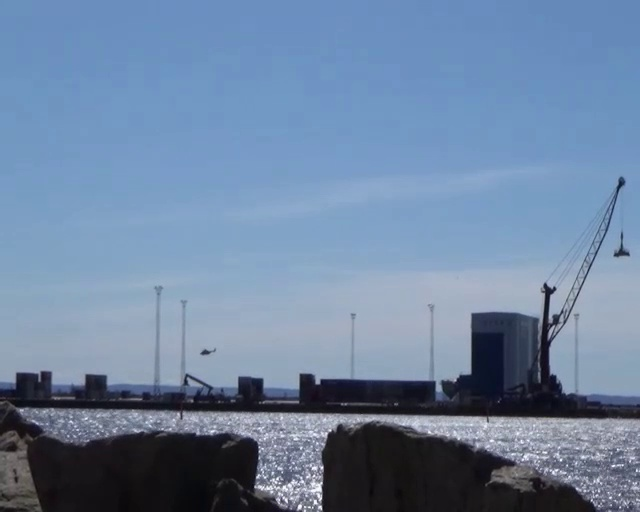HELICOPTER: (166, 345, 182, 354)
